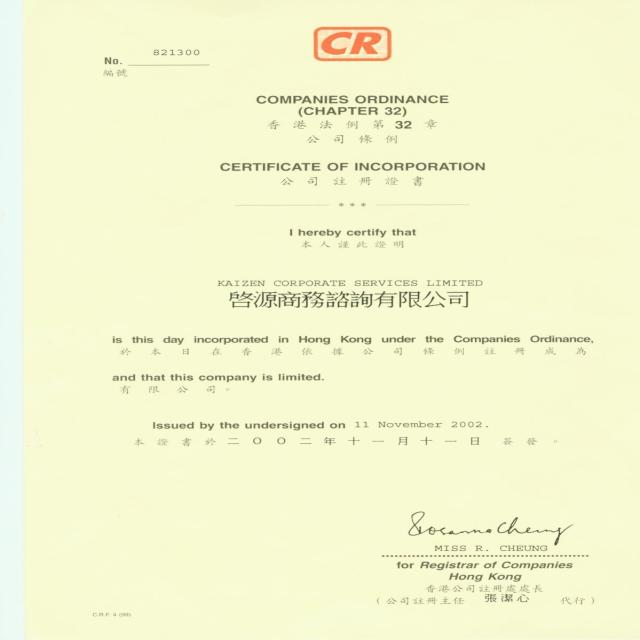signature: (384, 503, 594, 548)
